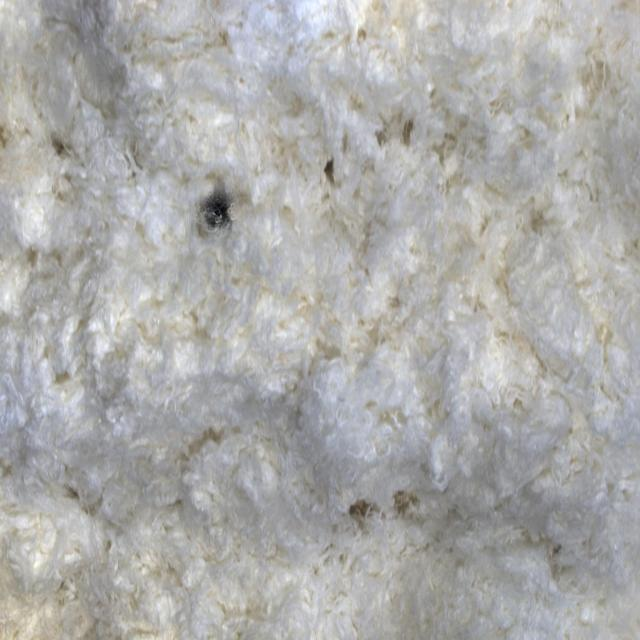dust: (189, 161, 252, 261)
